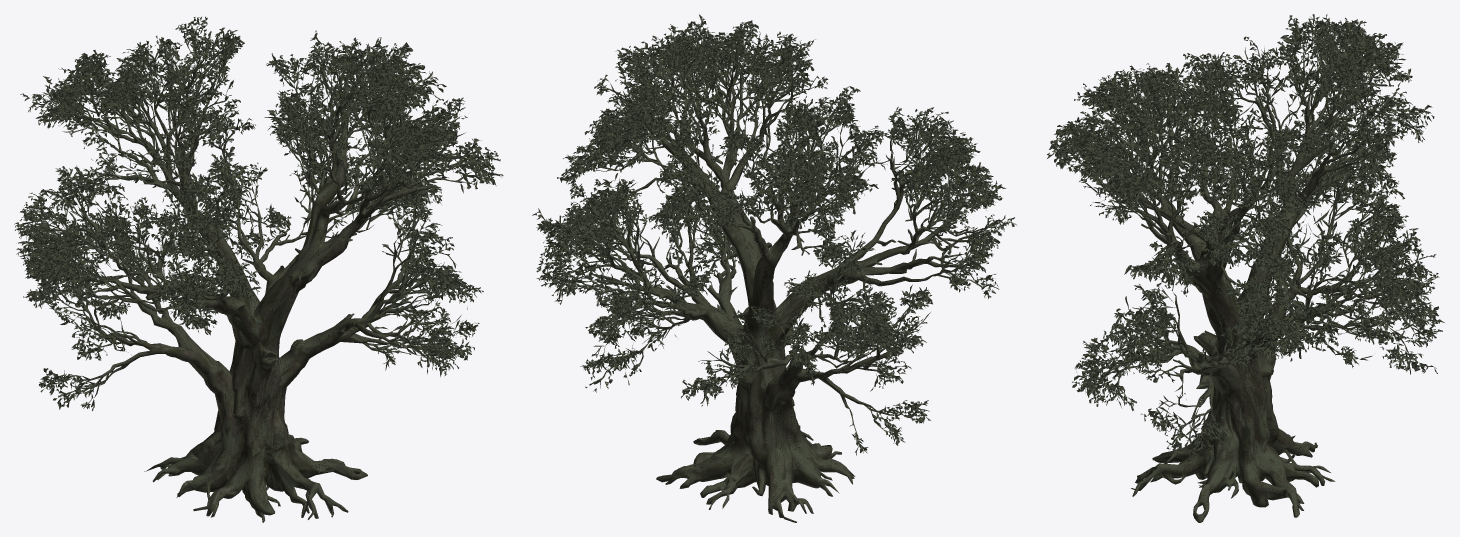
The model's file is tree_world.glb.
The picture shows the model from 3 angles, left to right: view 1: azimuth 30°, elevation 25°; view 2: azimuth 150°, elevation 25°; view 3: azimuth 270°, elevation 25°; orthographic projection. The views are drawn at different scales.
Parts seen in each view (by area): view 1: tree_world; view 2: tree_world; view 3: tree_world.
Part boxes in pixels (x1,y1,x2,y2): tree_world: [14, 16, 503, 522]; tree_world: [532, 14, 1016, 522]; tree_world: [1047, 14, 1444, 522].
Bounding box in the file's own units: 187 × 184 × 148.
1 material, 1 textured.
